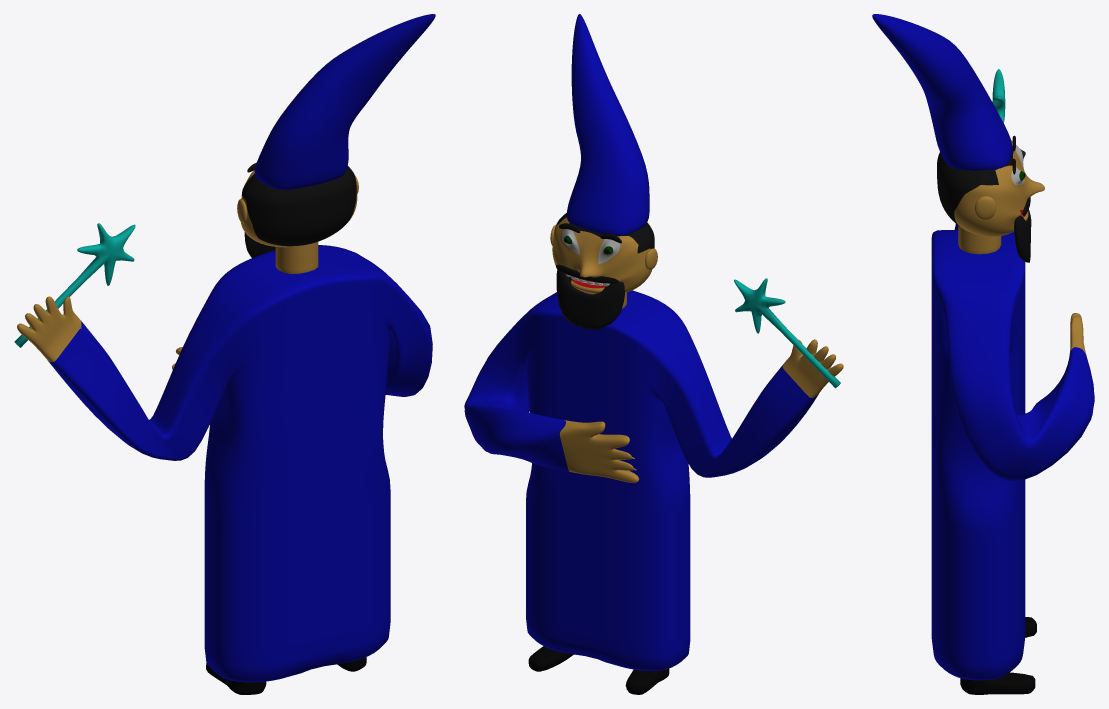
File: zaks.obj
3 views of the same model, side by side, from view 1: azimuth 30°, elevation 25°; view 2: azimuth 150°, elevation 25°; view 3: azimuth 270°, elevation 25° (orthographic). The views are drawn at different scales.
Parts seen in each view (by area): view 1: ZaksFace_Cube.4041; view 2: ZaksFace_Cube.4041; view 3: ZaksFace_Cube.4041.
Part boxes in pixels (x1,y1,x2,y2): ZaksFace_Cube.4041: (14,14,435,694); ZaksFace_Cube.4041: (464,14,843,694); ZaksFace_Cube.4041: (872,14,1094,694).
Bounding box in the file's own units: 6.1 × 9.63 × 2.81.
